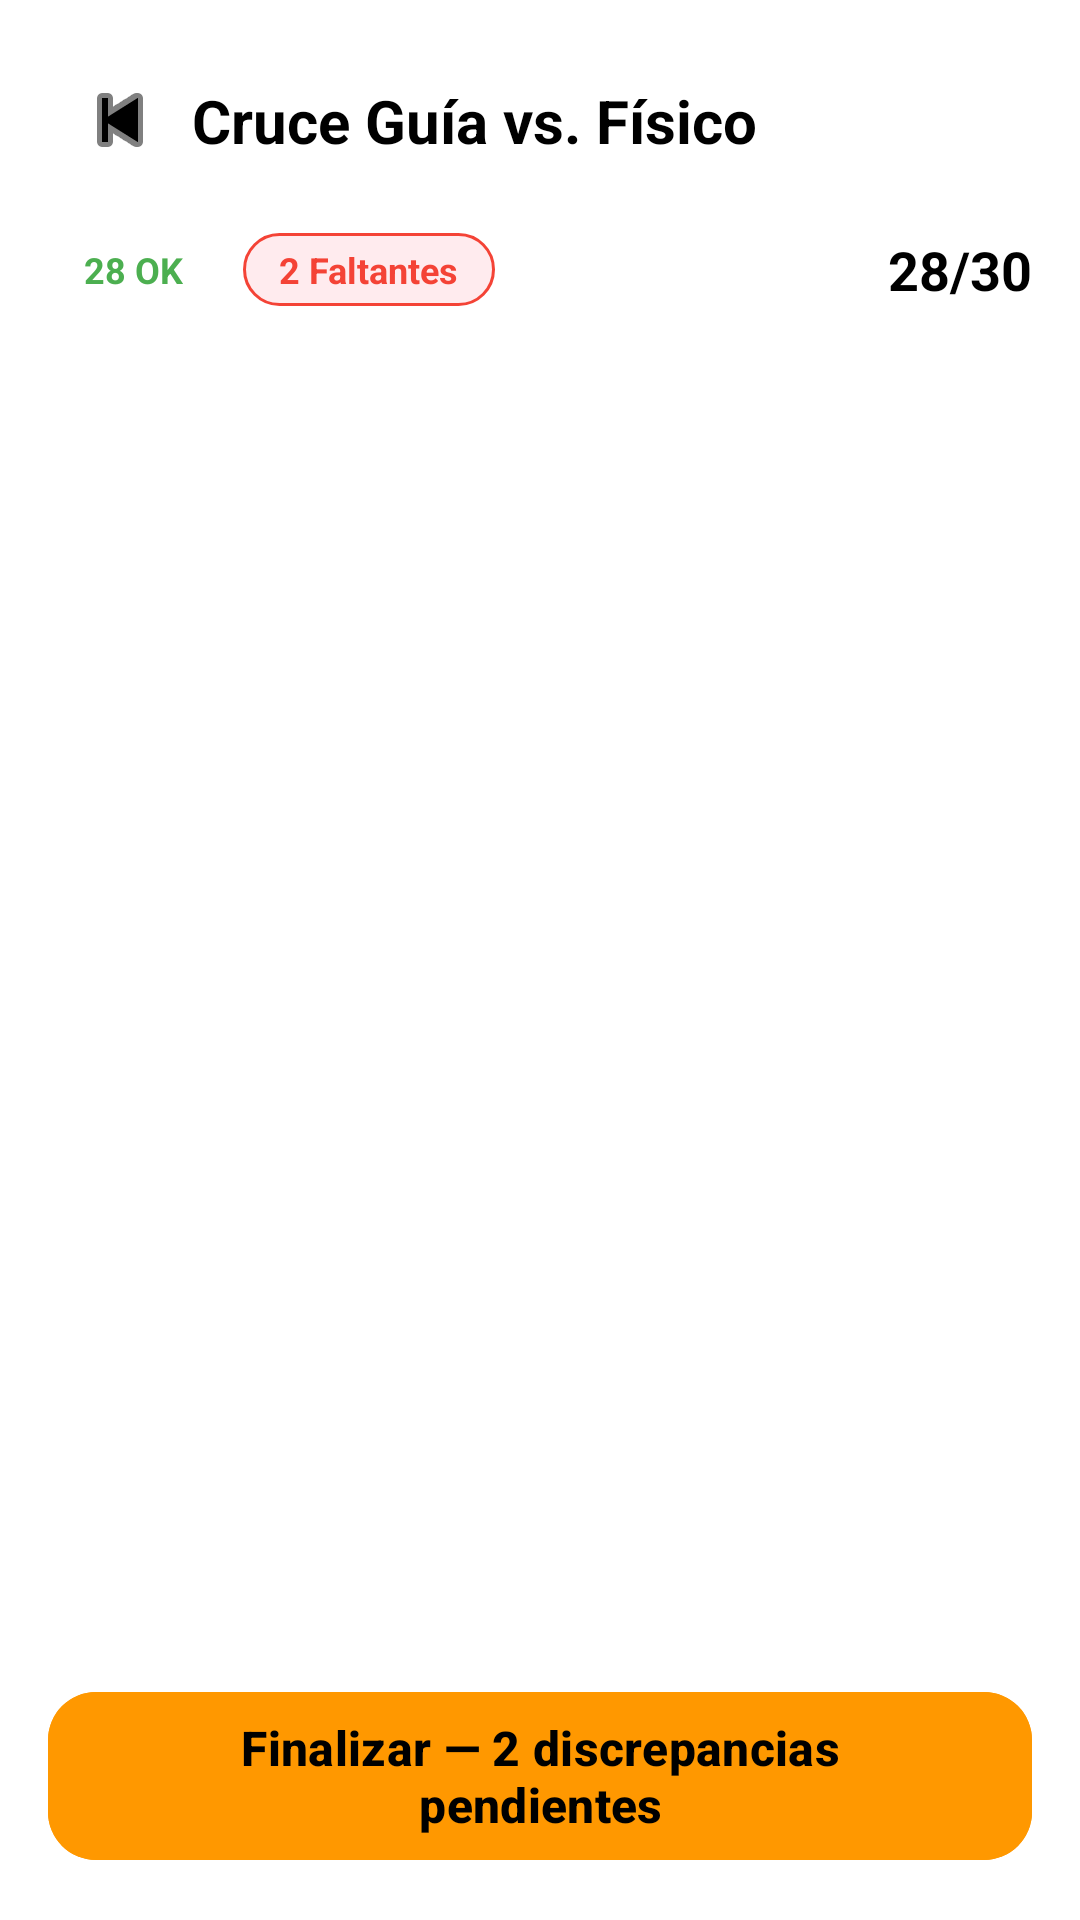

Where to tap for icons on this 1080*1920 app screen, as (x,y):
previous: (120,120)
